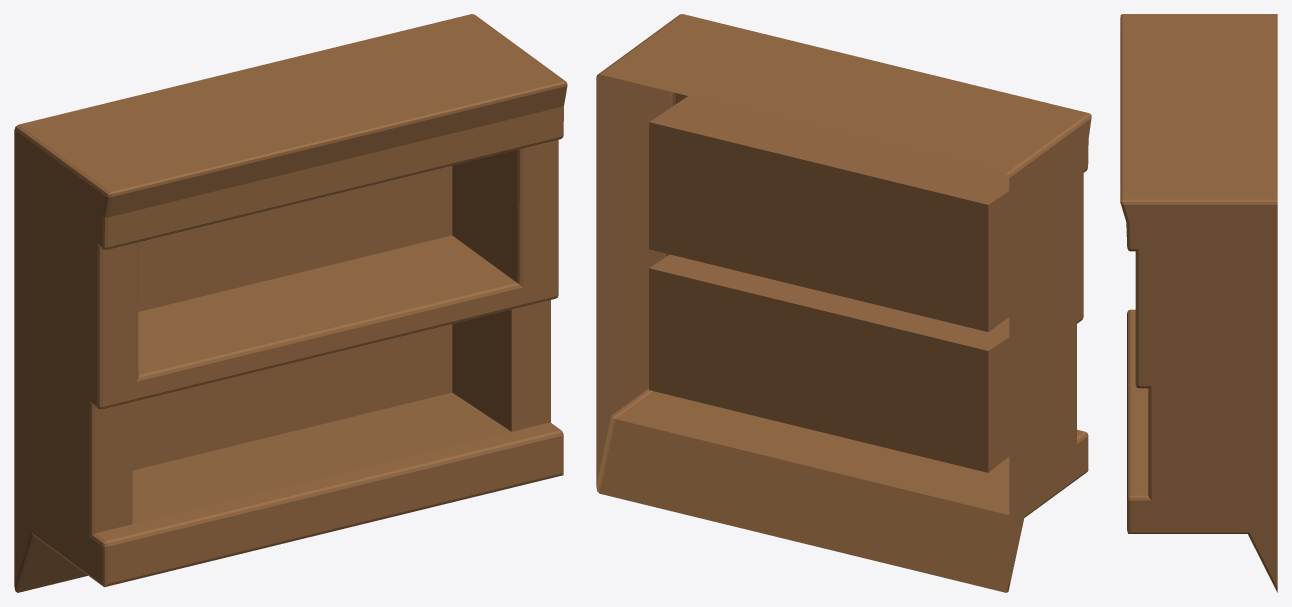
The model's file is Upper_Cabinet_01.fbx.
3 renders of one model, left to right at view 1: azimuth 30°, elevation 25°; view 2: azimuth 150°, elevation 25°; view 3: azimuth 270°, elevation 25°, orthographic. The views are drawn at different scales.
Visible parts, largest first — view 1: Upper_Cabinet_01; view 2: Upper_Cabinet_01; view 3: Upper_Cabinet_01.
Boxes of the visible parts, bbox=[...] form: Upper_Cabinet_01: bbox=[14, 14, 567, 592]; Upper_Cabinet_01: bbox=[596, 14, 1091, 592]; Upper_Cabinet_01: bbox=[1120, 14, 1277, 592].
Size of the model in its own units: 92.4 by 89.6 by 32.46.
